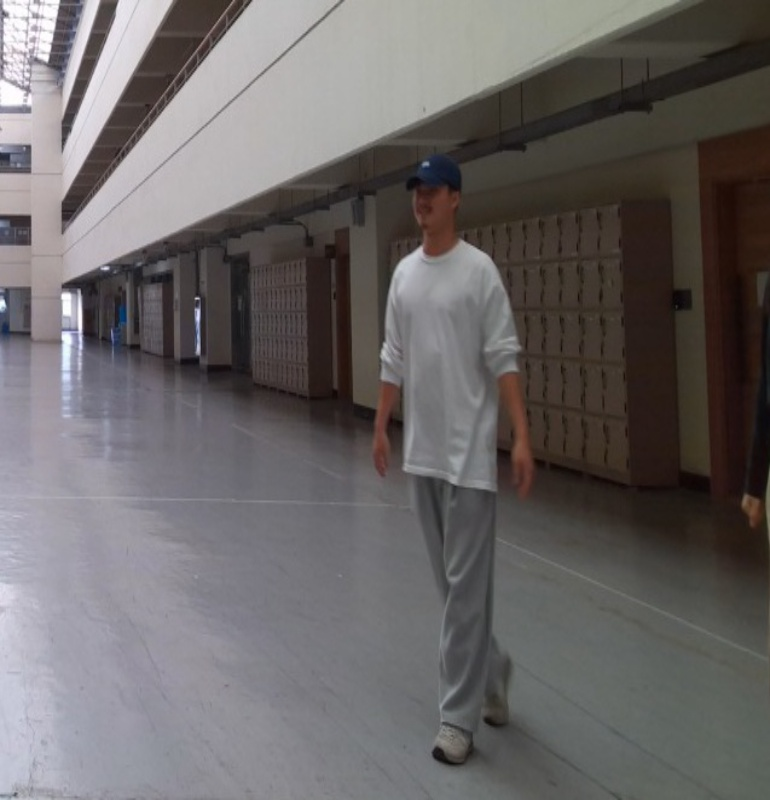person: (369, 155, 538, 768)
